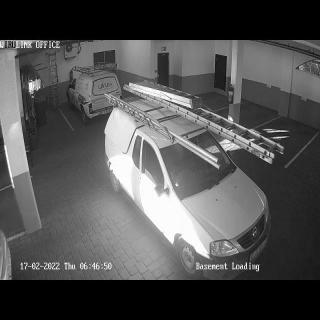car: (103, 91, 271, 276), (67, 68, 122, 124), (0, 228, 12, 280)
